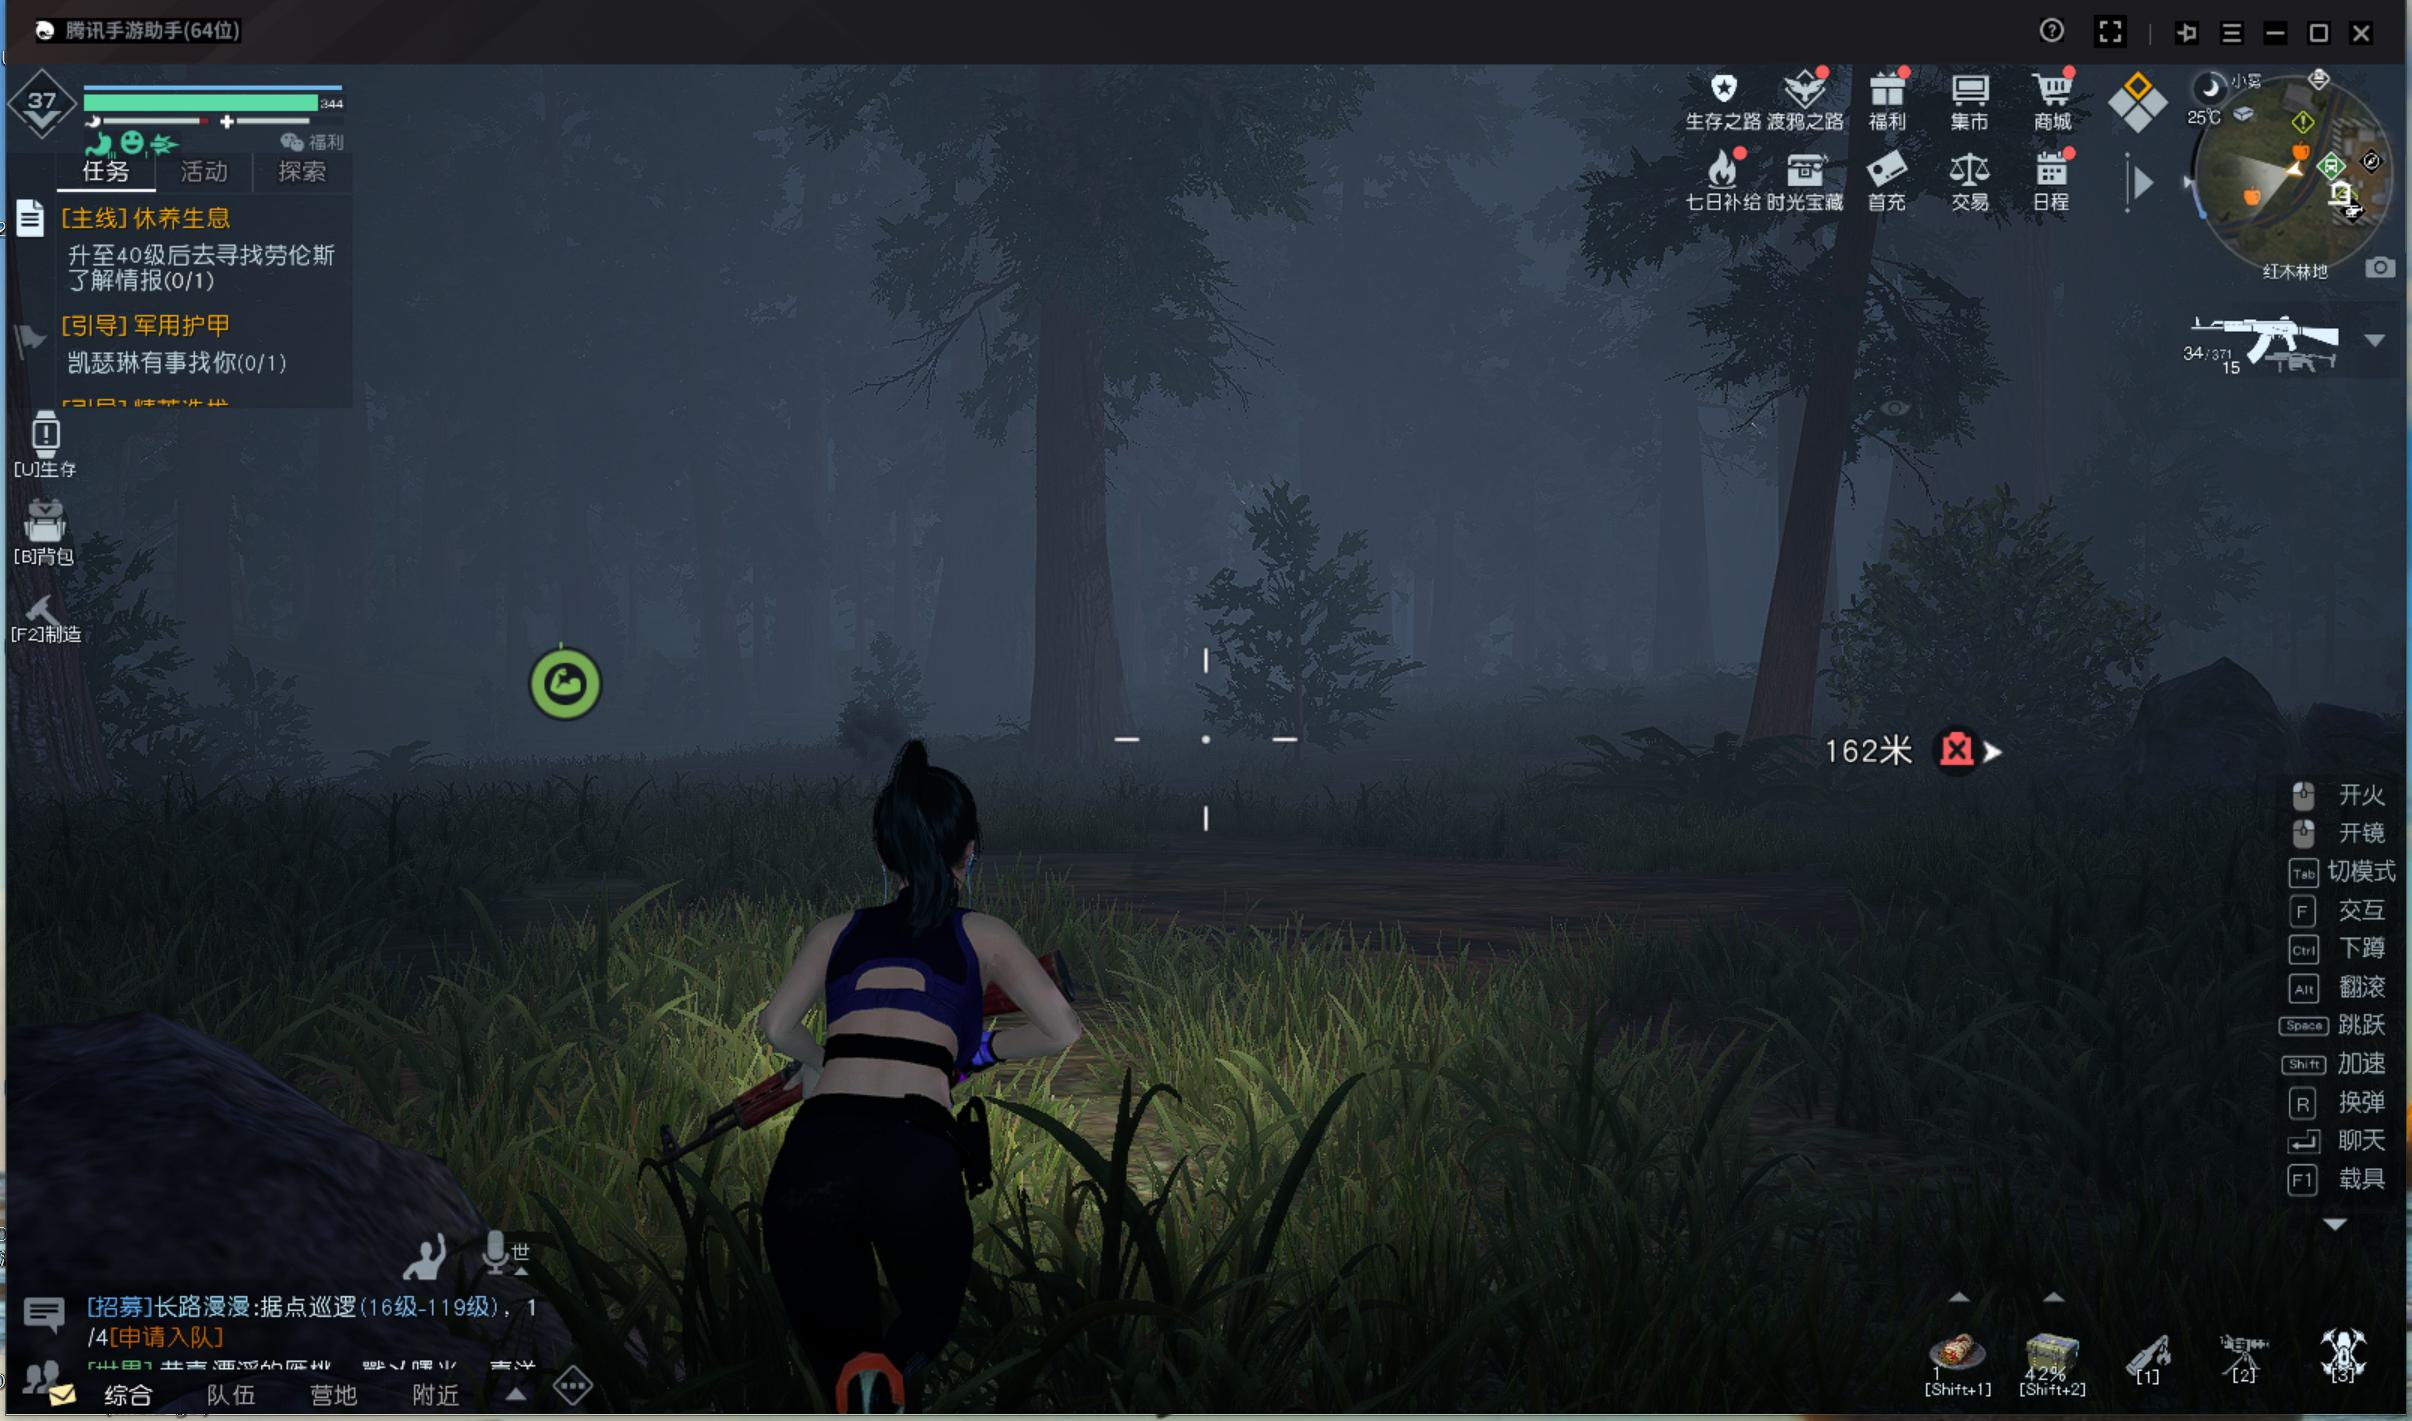tree: (991, 418, 1162, 751), (1737, 381, 1840, 809), (1631, 386, 1720, 702)
